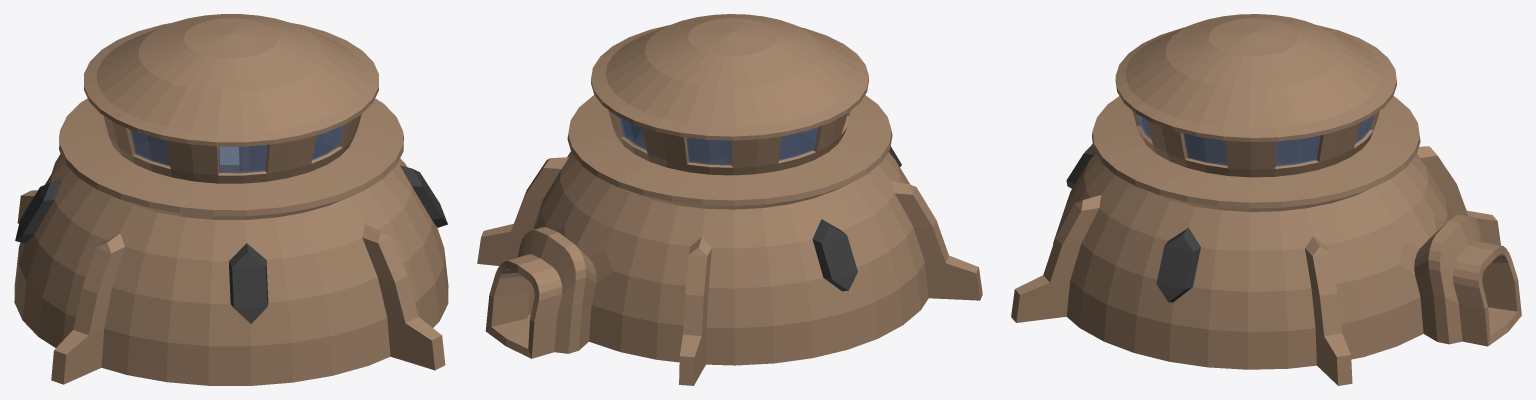
Rendered from nuevacasa.glb.
3 views of the same model, side by side, from view 1: azimuth 30°, elevation 25°; view 2: azimuth 150°, elevation 25°; view 3: azimuth 270°, elevation 25° (orthographic). The views are drawn at different scales.
Parts seen in each view (by area): view 1: NUEVA CASA, VENTANAS CASA; view 2: NUEVA CASA, VENTANAS CASA; view 3: NUEVA CASA, VENTANAS CASA.
Boxes of the visible parts, x1,y1,x2,y2 form: NUEVA CASA: [14, 14, 448, 385]; VENTANAS CASA: [130, 124, 345, 173]; NUEVA CASA: [477, 14, 982, 385]; VENTANAS CASA: [619, 113, 847, 165]; NUEVA CASA: [1011, 14, 1521, 385]; VENTANAS CASA: [1137, 114, 1374, 166].
Size of the model in its own units: 63.05 by 35.39 by 65.69.
